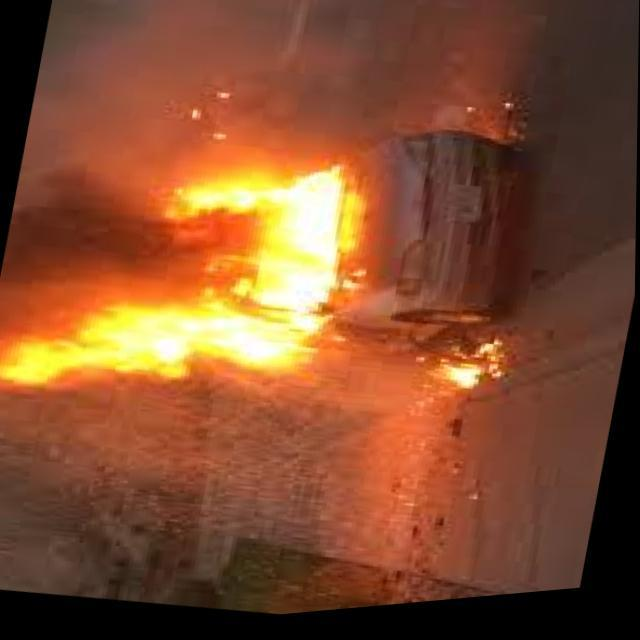fire: (0, 112, 372, 460), (426, 342, 504, 411)
